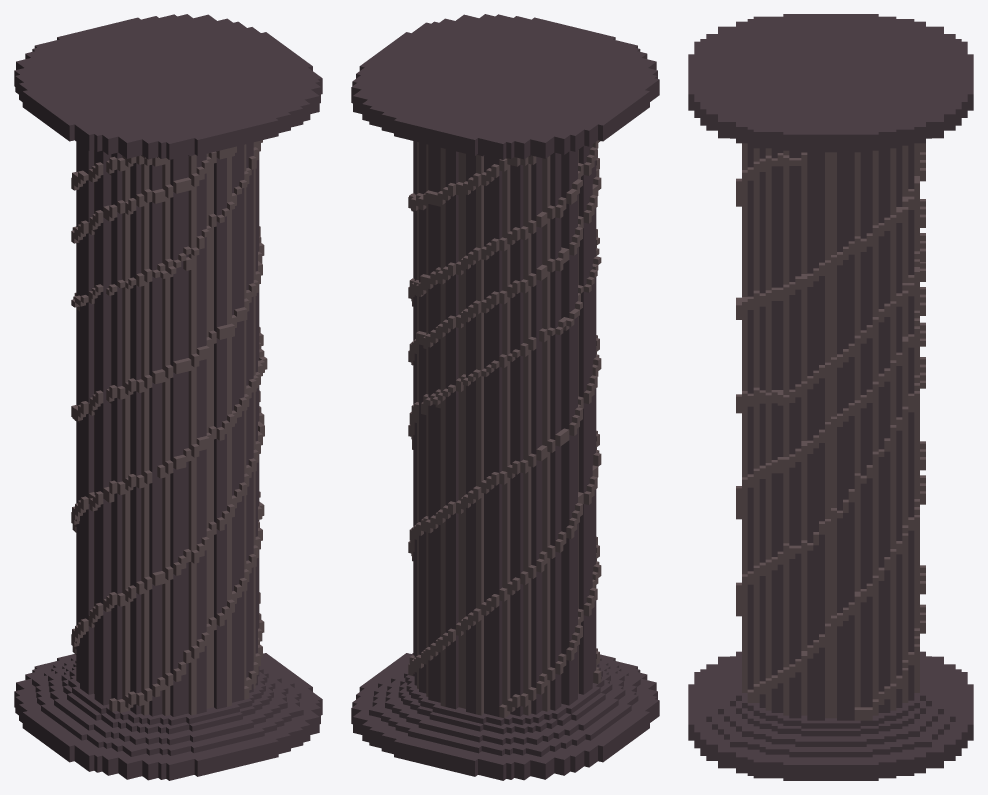
File: columna.obj
3 views of the same model, side by side, from view 1: azimuth 30°, elevation 25°; view 2: azimuth 150°, elevation 25°; view 3: azimuth 270°, elevation 25° (orthographic).
Size of the model in its own units: 4.8 by 12 by 4.8.
1 material, 1 textured.
